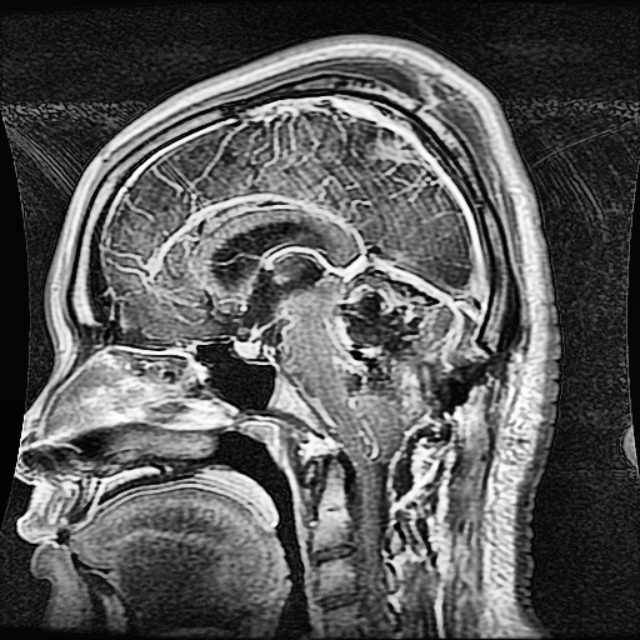Meningioma: (332, 287, 425, 403)
